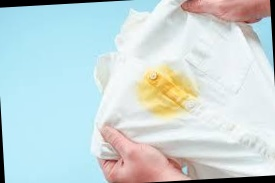mustard: (142, 70, 192, 111)
